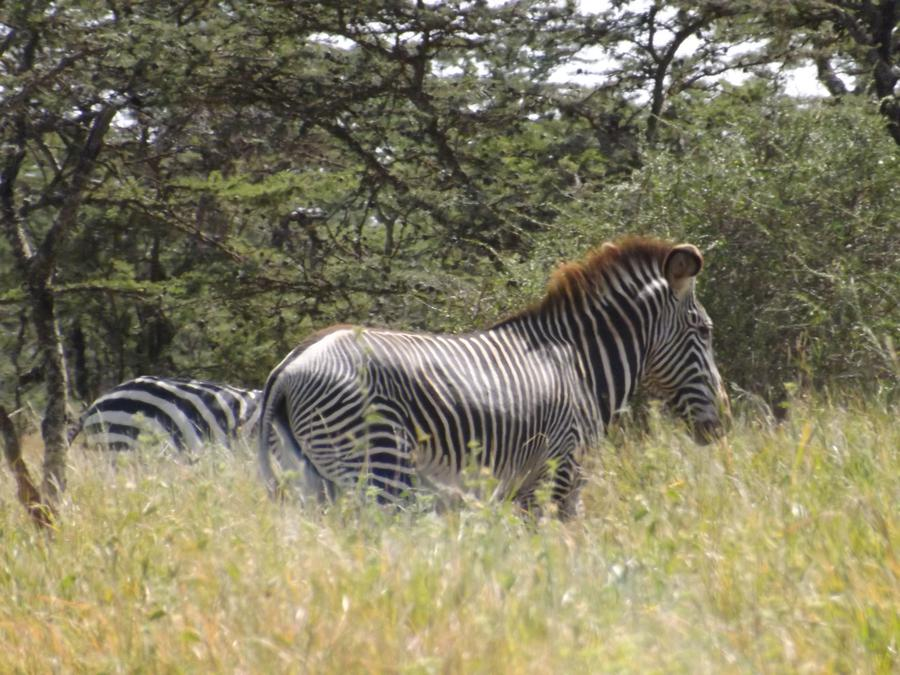zebra_grevys: (273, 322, 595, 471)
